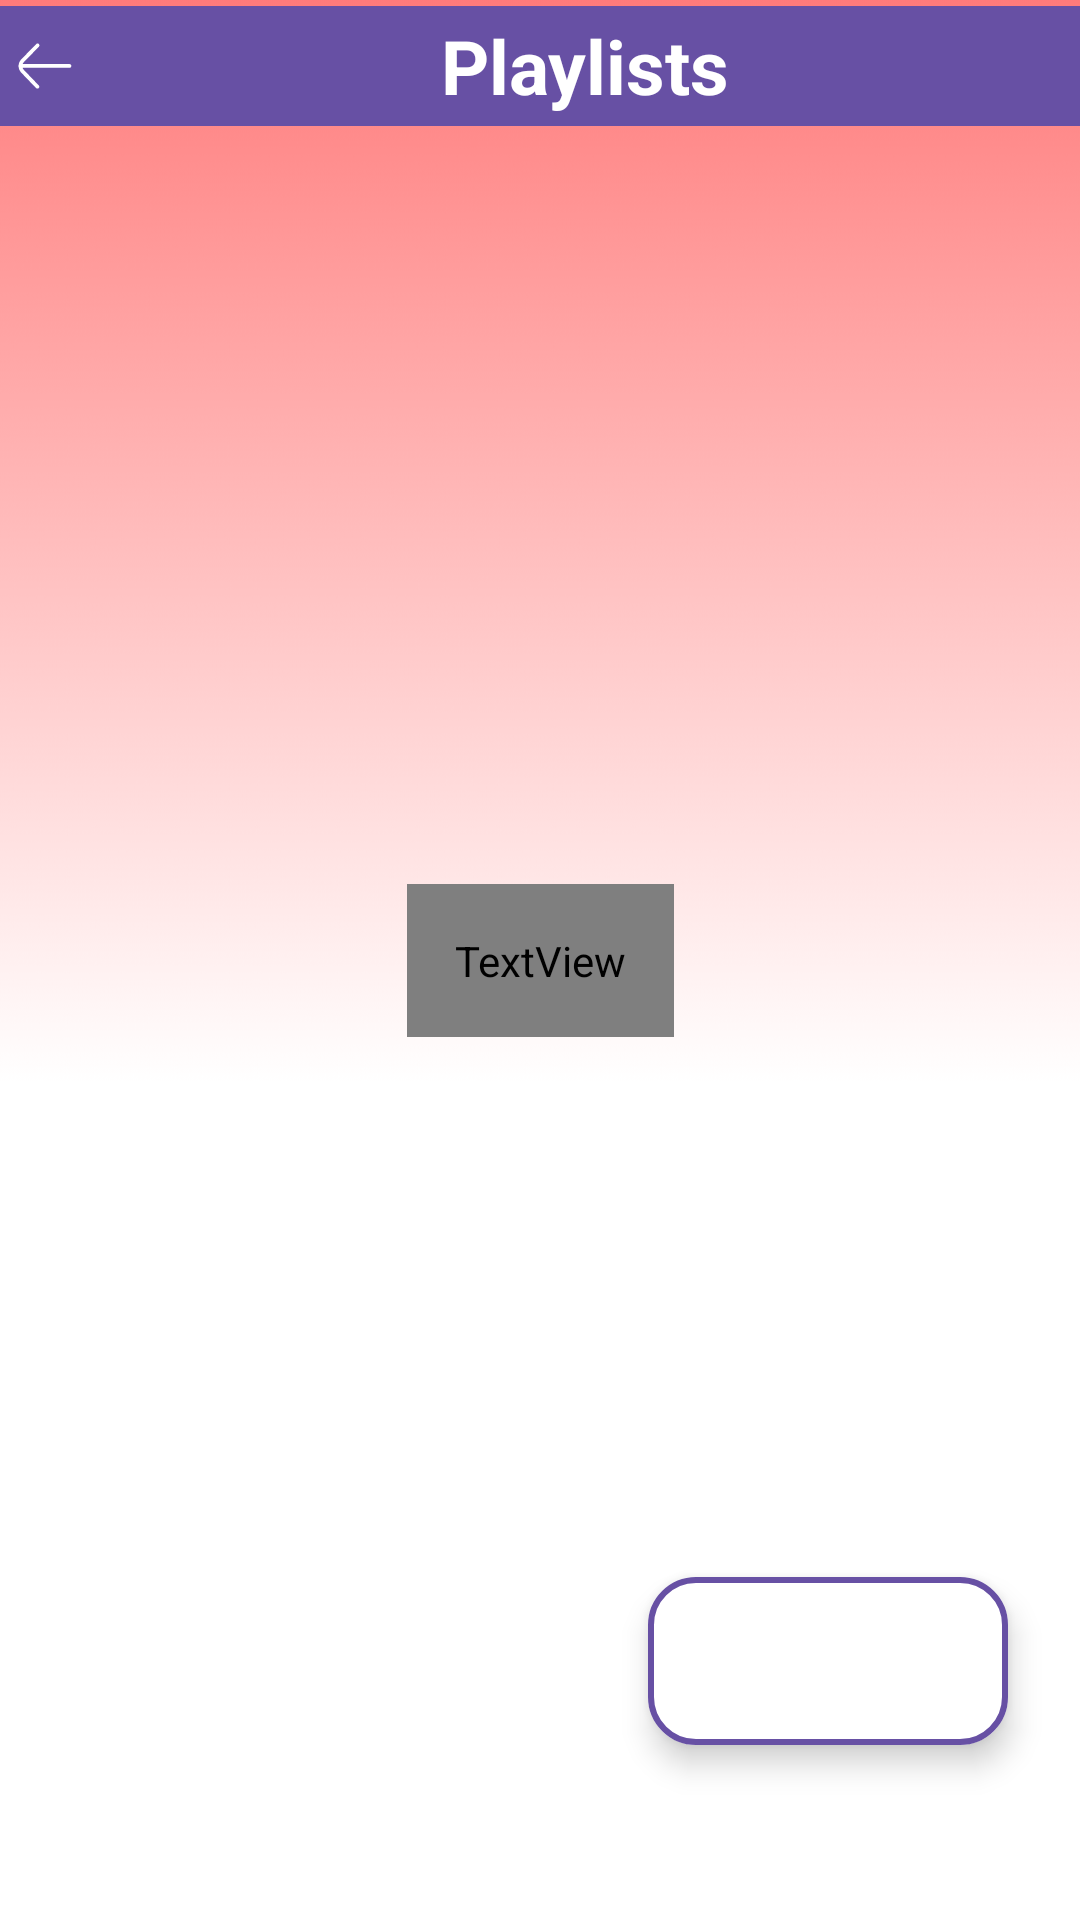

Icons on this 1080px x 1920px Android screen, each with the point to tap as [x,y]:
Back: [45,66]
